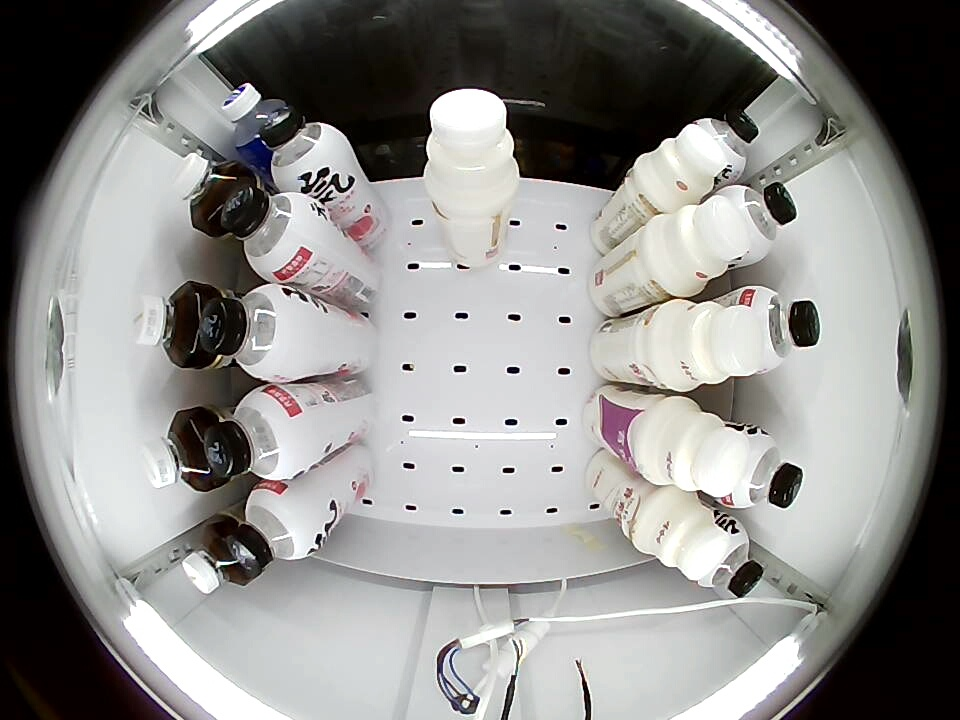baokuangli: (222, 82, 294, 159)
wulongcha: (130, 281, 210, 368), (140, 409, 218, 492), (172, 151, 248, 230), (182, 522, 257, 594)
yingyangkuaixian: (423, 89, 521, 213), (634, 396, 746, 497), (644, 195, 751, 298), (650, 295, 760, 393), (632, 487, 729, 581), (636, 123, 727, 213)
yuanqishui: (202, 384, 310, 484), (216, 183, 324, 283), (198, 284, 308, 382), (233, 481, 324, 575), (729, 286, 821, 377), (259, 106, 354, 194), (710, 424, 804, 510), (714, 181, 798, 264), (686, 519, 766, 596), (688, 107, 760, 182)
